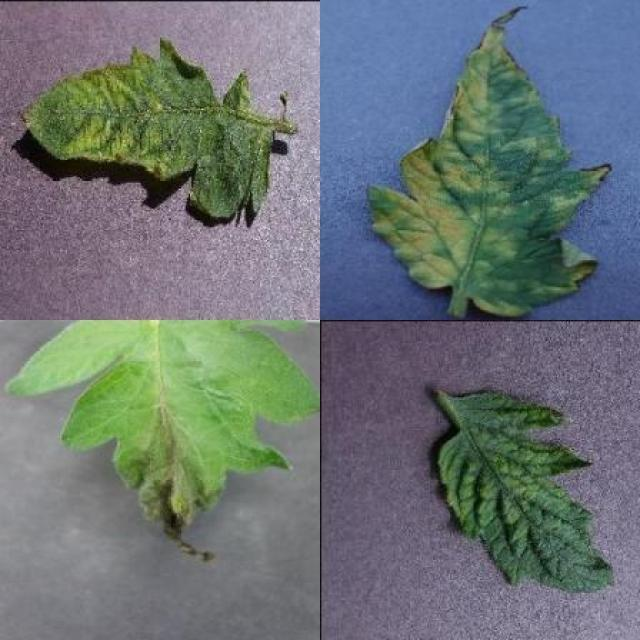Late Blight: (3, 320, 320, 564)
Leaf Mold: (365, 3, 612, 320)
Mosaic Virus: (17, 35, 277, 218), (433, 392, 613, 594)
